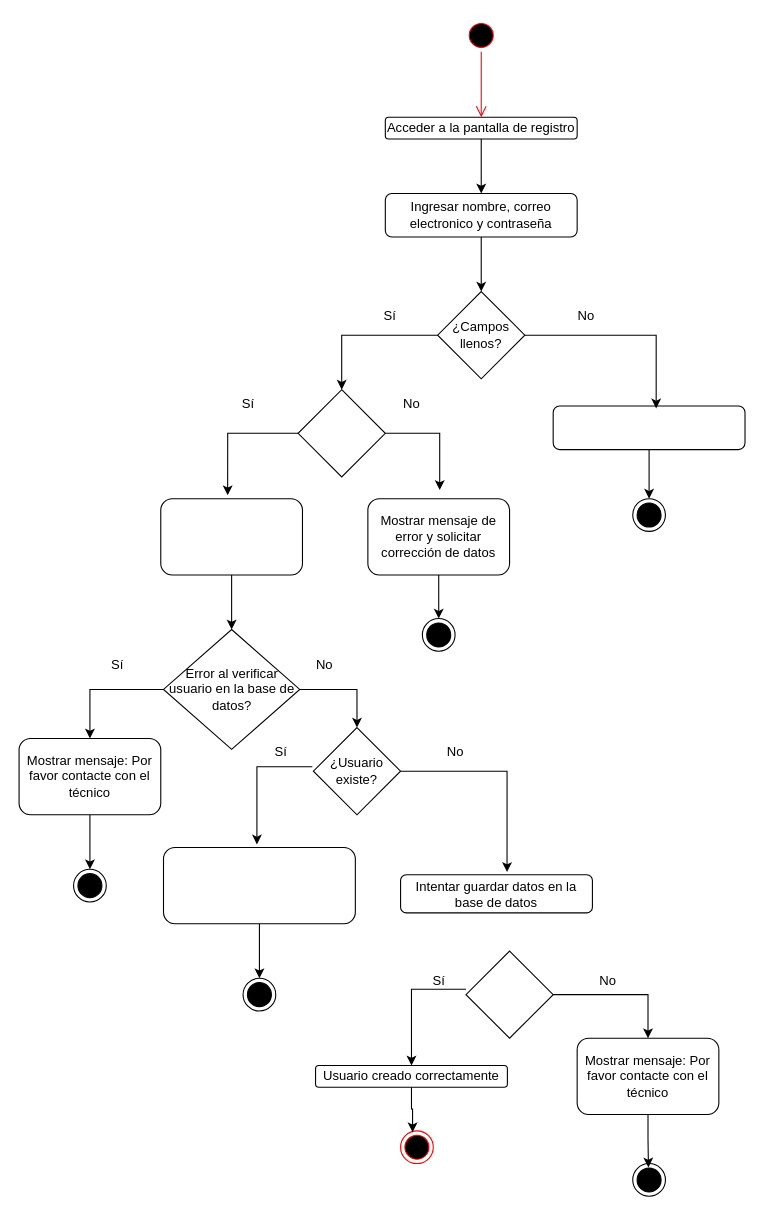
Image size: 764x1215. Some labels were removed from this diagram. Here are the shapes that lost their labels. From the top down, the centre of each, then its label:
At point (341, 433): "¿Datos válidos?".
At point (648, 427): "Mostrar mensaje: Debe llenar los campos".
At point (231, 536): "Verificar si el usuario ya existe en la base de datos".
At point (258, 885): "Mostrar mensaje: Usuario ya existe, por vafor intente con otras credenciales".
At point (509, 994): "¿Inserción exitosa?".
